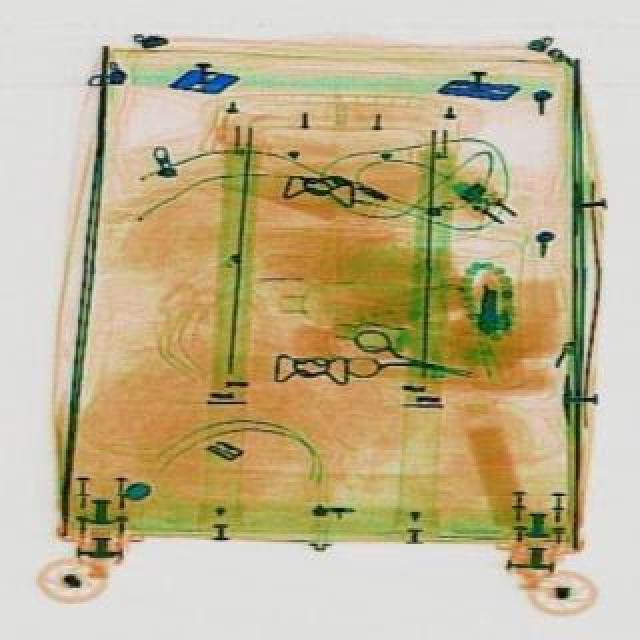pliers: (346, 324, 484, 400)
